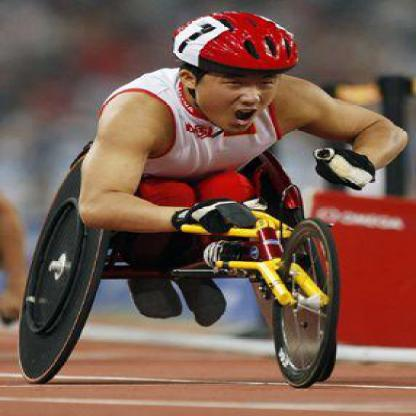wheelchair: (13, 10, 406, 400)
